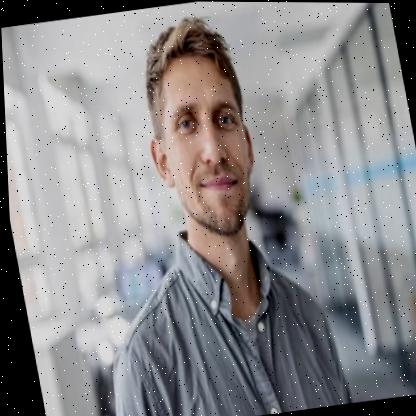person: (42, 0, 342, 416)
